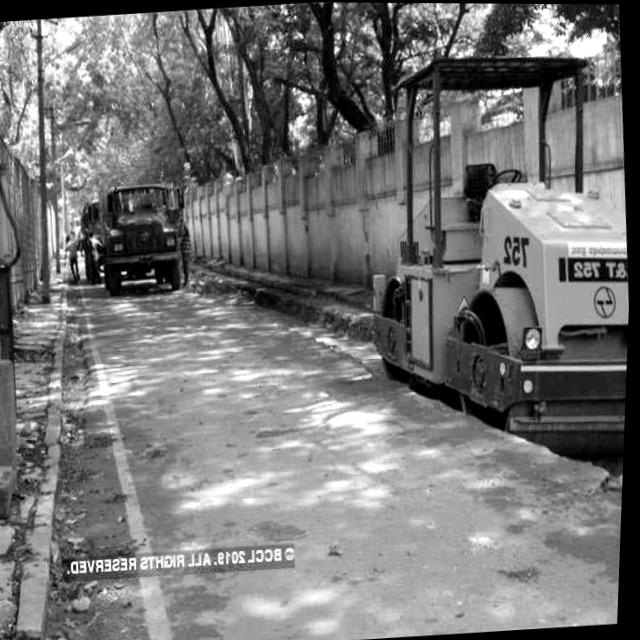cleat: (0, 70, 574, 640)
